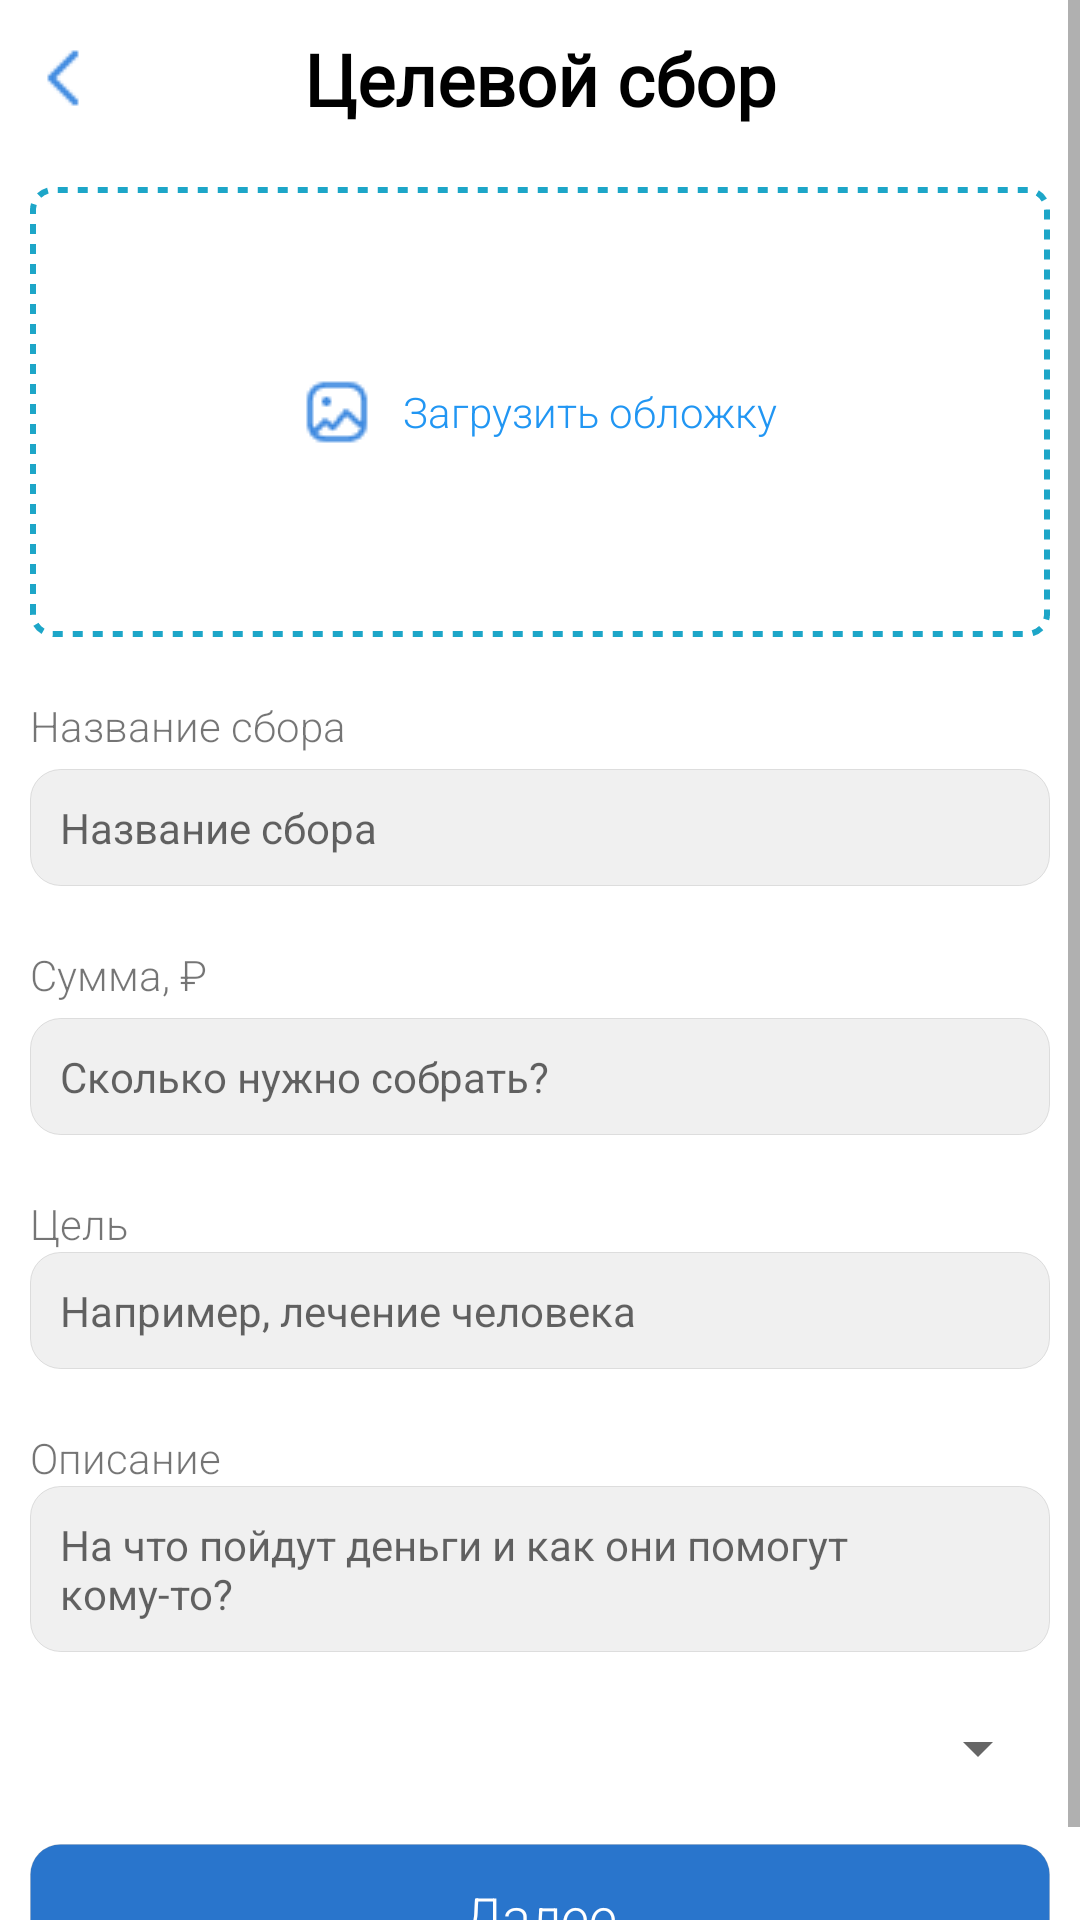

Where icons sit on this 1080w x 1920h app screen, as (x1, y1, x2, y2):
back button: (47, 50, 79, 106)
